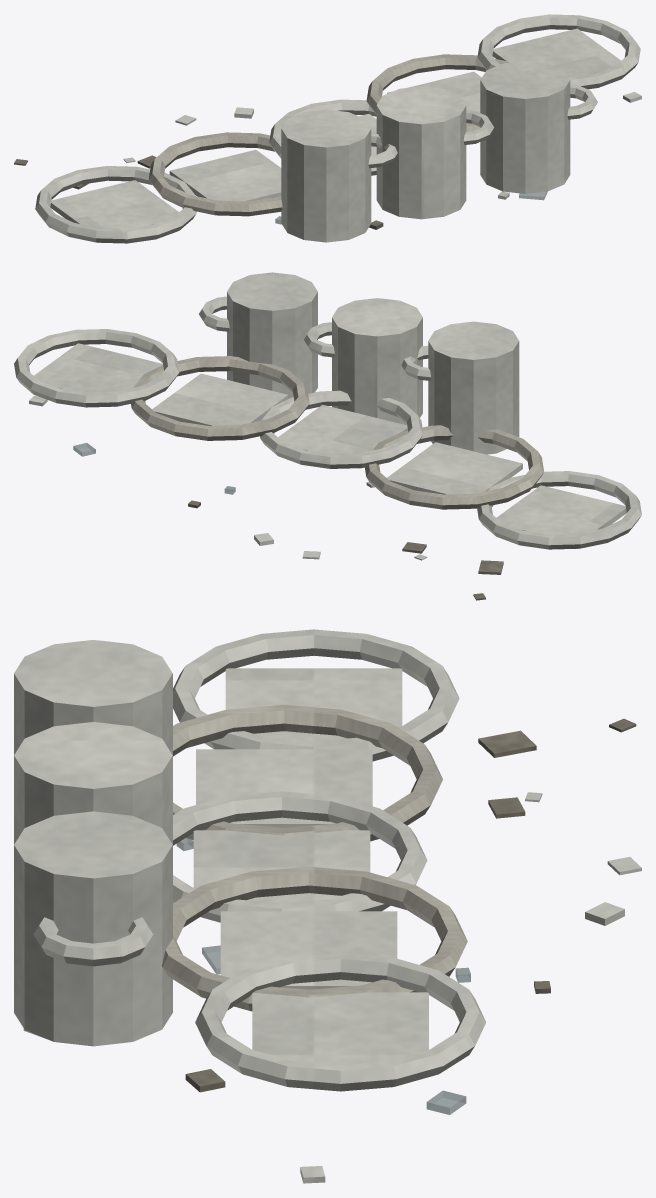
File: broken_crockery_scatter.glb
3 renders of one model, top to bottom at view 1: azimuth 30°, elevation 25°; view 2: azimuth 150°, elevation 25°; view 3: azimuth 270°, elevation 25°, orthographic. The views are drawn at different scales.
Parts seen in each view (by area): view 1: InteriorPropGeometry; view 2: InteriorPropGeometry; view 3: InteriorPropGeometry.
Part boxes in pixels (x1,y1,x2,y2): InteriorPropGeometry: [14, 14, 641, 243]; InteriorPropGeometry: [14, 272, 641, 600]; InteriorPropGeometry: [14, 629, 641, 1183].
Bounding box in the file's own units: 1.37 × 0.239 × 0.7117.
Materials: 4 (3 with a texture image).
